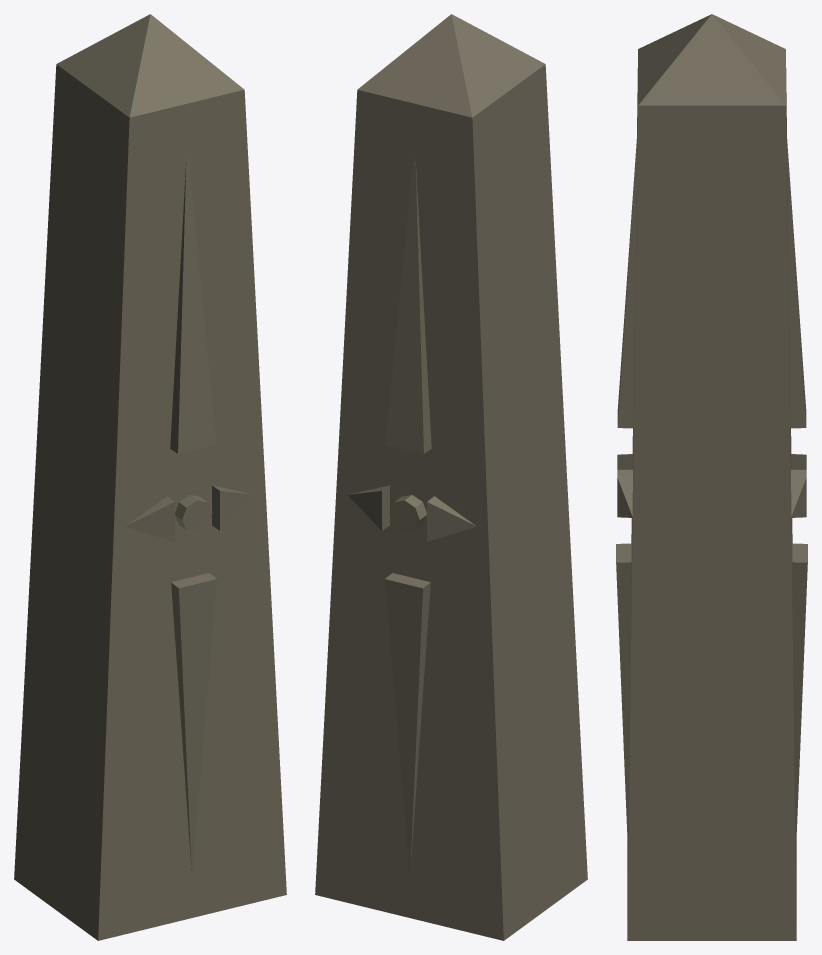
The model's file is parkTotem.fbx.
3 renders of one model, left to right at view 1: azimuth 30°, elevation 25°; view 2: azimuth 150°, elevation 25°; view 3: azimuth 270°, elevation 25°, orthographic.
Parts seen in each view (by area): view 1: parkTotem; view 2: parkTotem; view 3: parkTotem.
Boxes of the visible parts, x1=… form: parkTotem: x1=14, y1=14, x2=286, y2=940; parkTotem: x1=315, y1=14, x2=587, y2=940; parkTotem: x1=616, y1=14, x2=807, y2=940.
Size of the model in its own units: 384 by 1698 by 335.
